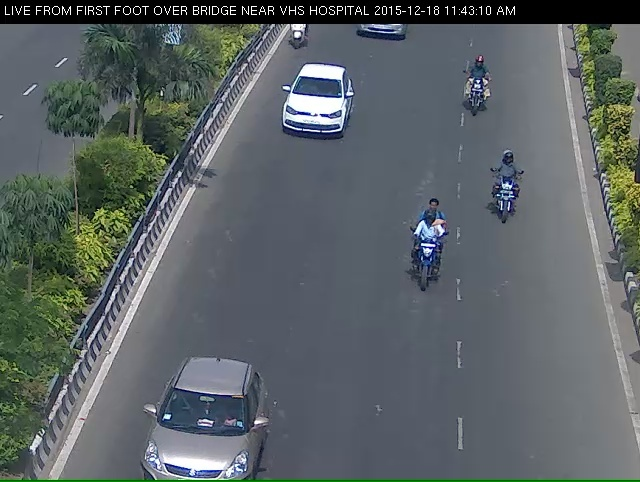Car: (127, 388, 261, 480), (275, 68, 354, 149)
Person: (404, 211, 447, 311), (493, 158, 535, 249), (459, 61, 495, 124), (278, 24, 319, 54)
